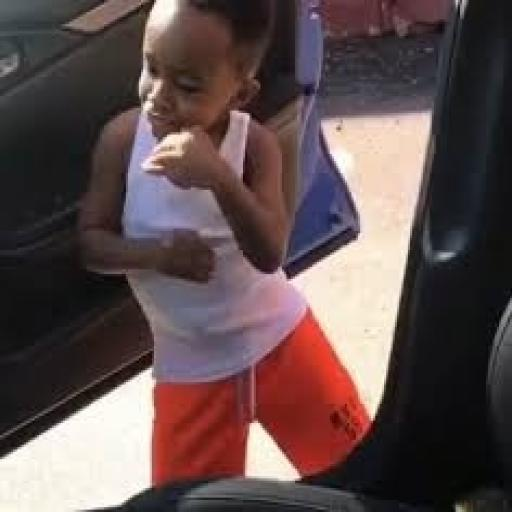dancing: (74, 0, 375, 488)
